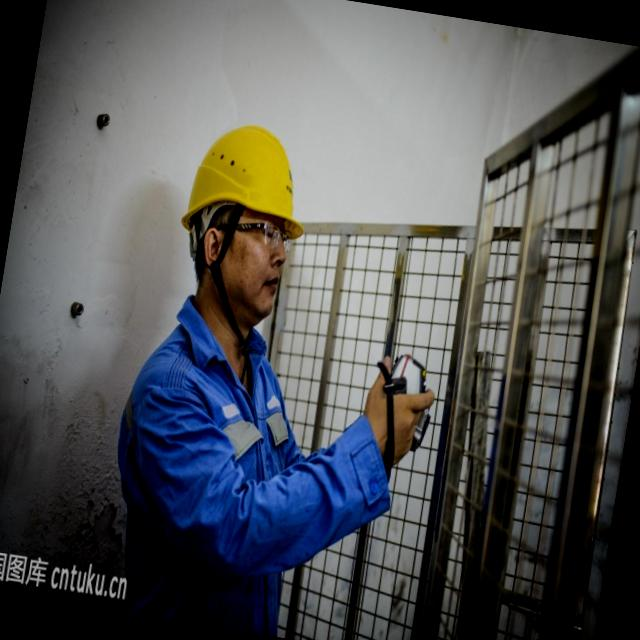helmet: (174, 106, 323, 270)
vest: (106, 298, 316, 592)
